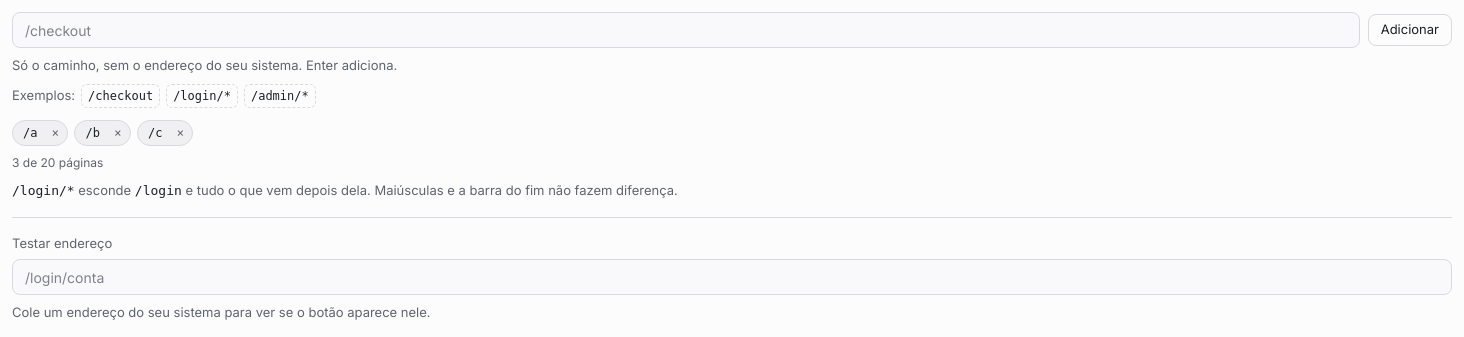
Test: HiddenPagesEditor › a etiqueta continua editavel: clicar leva ao campo, e Trocar poe no mesmo lugar
Click the button named "Editar /b". click: (93, 132)
box: [80,124,106,142]
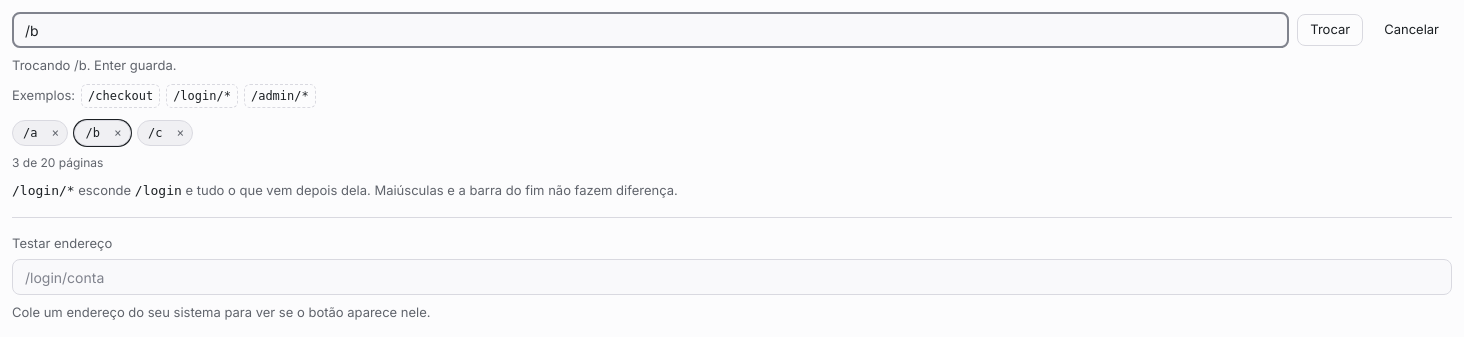
Check: the field named "Caminho da página" holds "/b"
Check: the text "Trocando /b. Enter guarda." is shown, box [12,57,176,73]
Replace the text in the field named "Caminho da página" with "/conta/*". click: (651, 30)
box: [12,12,1289,48]
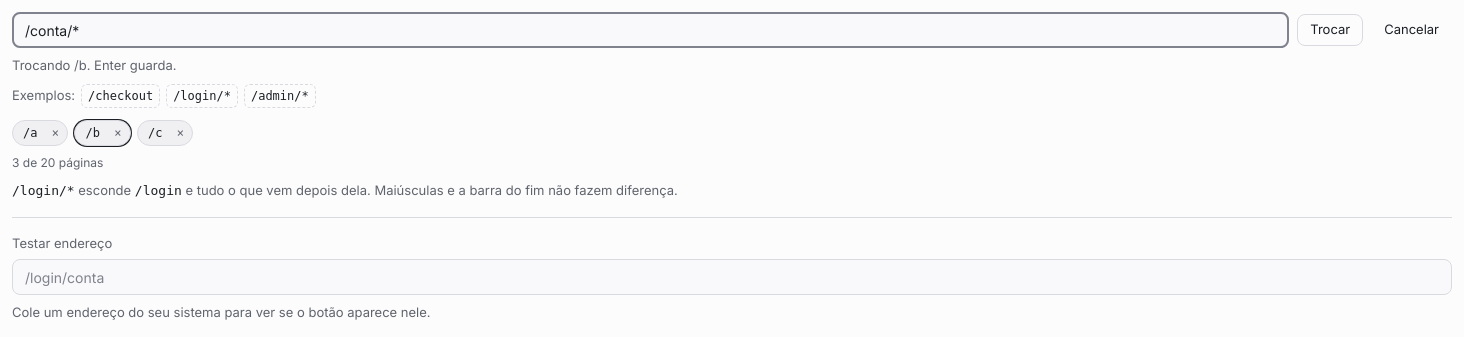
Press Enter in the field named "Caminho da página", box [12,12,1289,48]
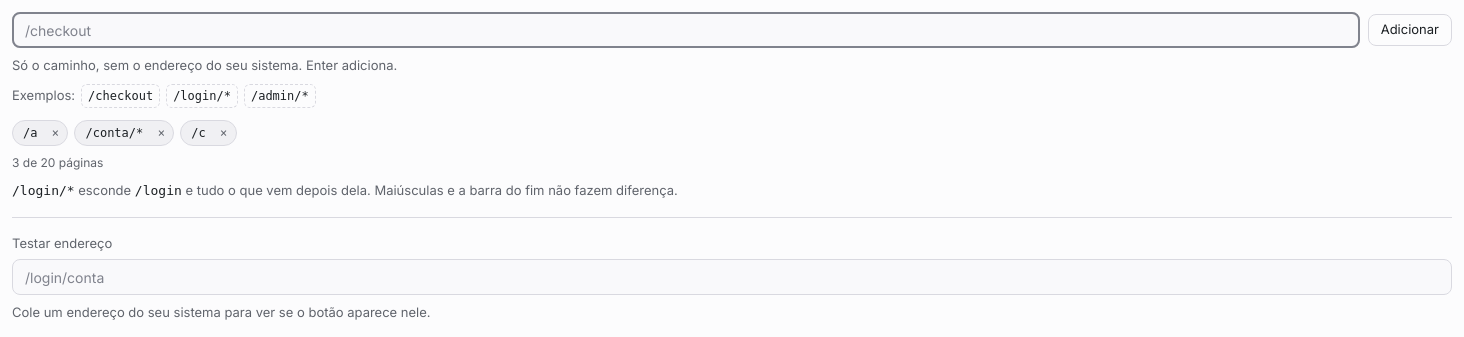
Check: the button "Adicionar" is shown, box [1368,14,1452,46]
